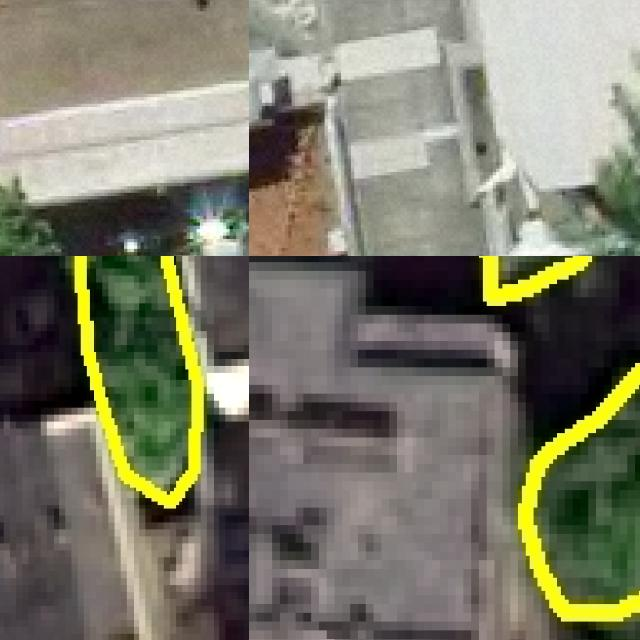trees: (79, 257, 199, 503), (523, 368, 640, 614), (486, 257, 585, 298)
